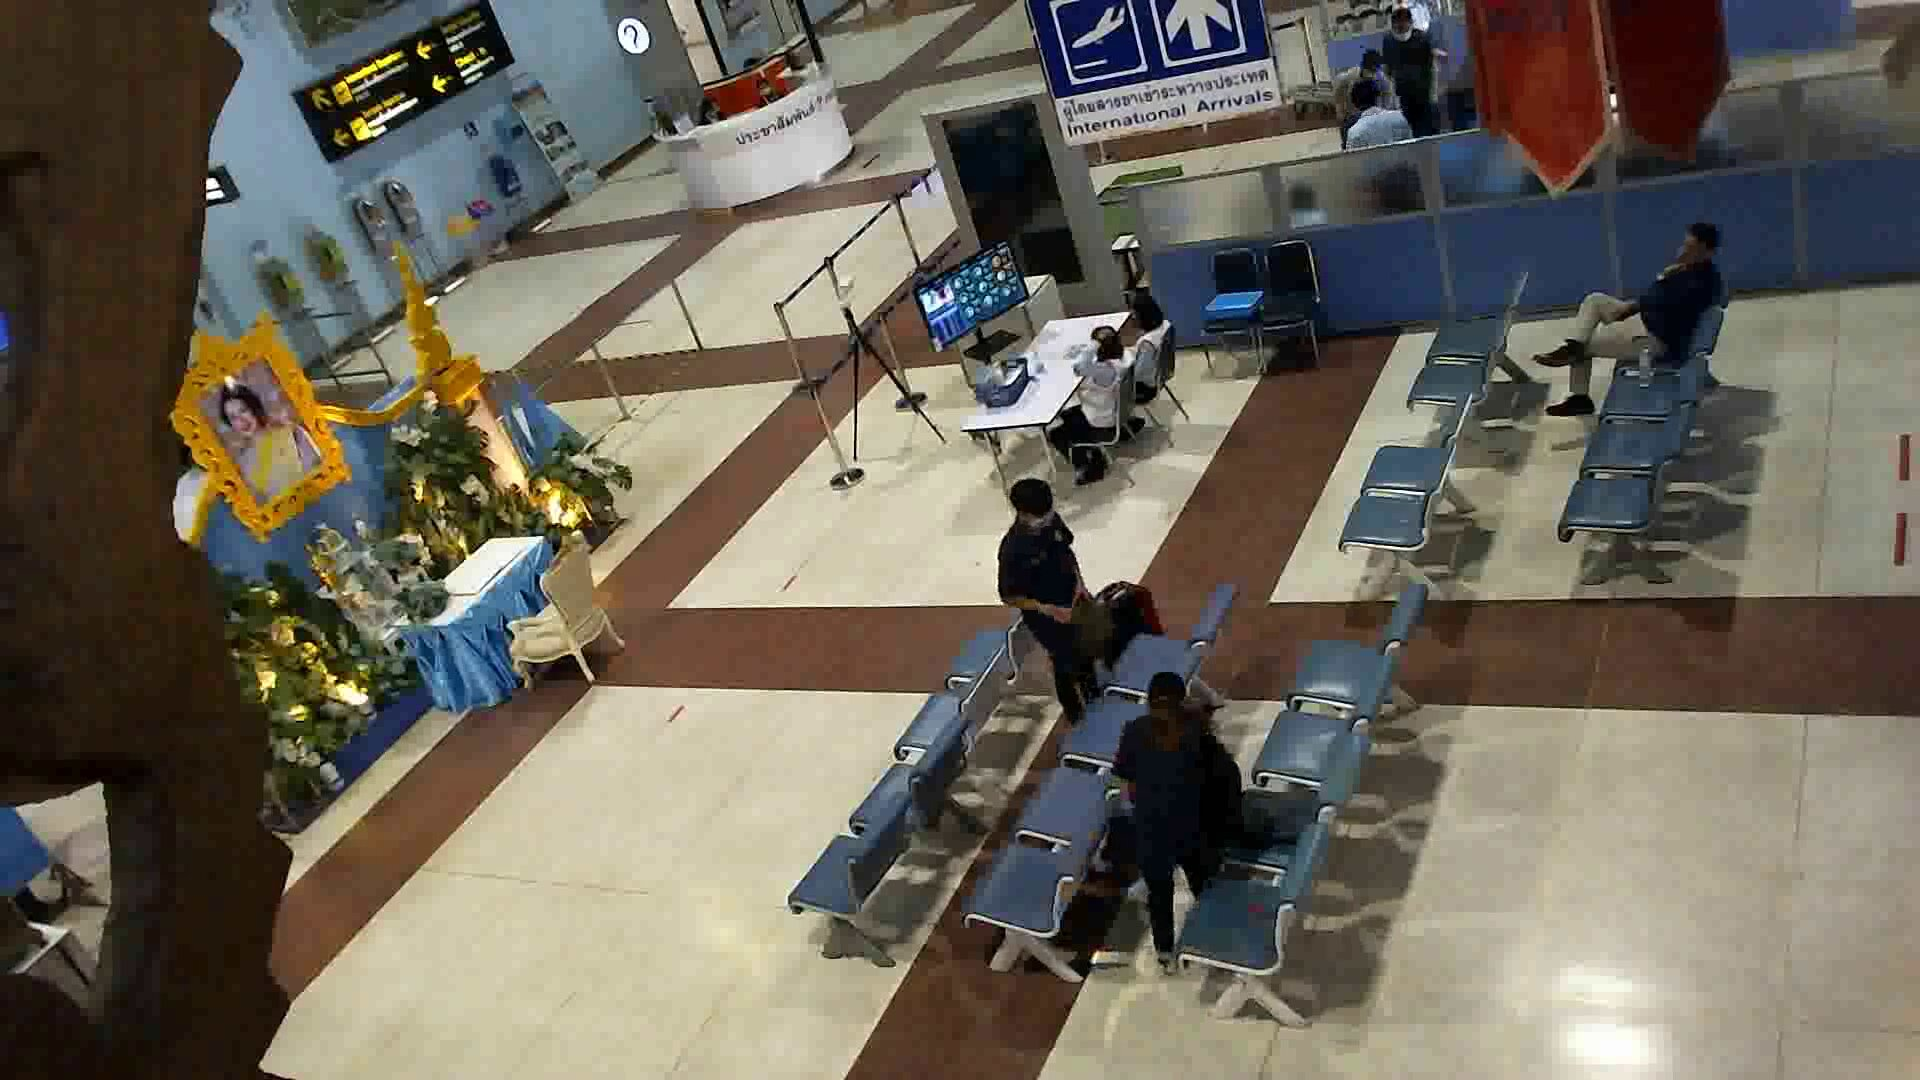backpack: (1226, 774, 1335, 851), (1064, 588, 1129, 690)
luggage: (1091, 578, 1183, 680)
people: (1529, 207, 1724, 430), (1118, 657, 1229, 978), (997, 465, 1112, 753), (1060, 316, 1131, 476), (1122, 284, 1195, 409)
